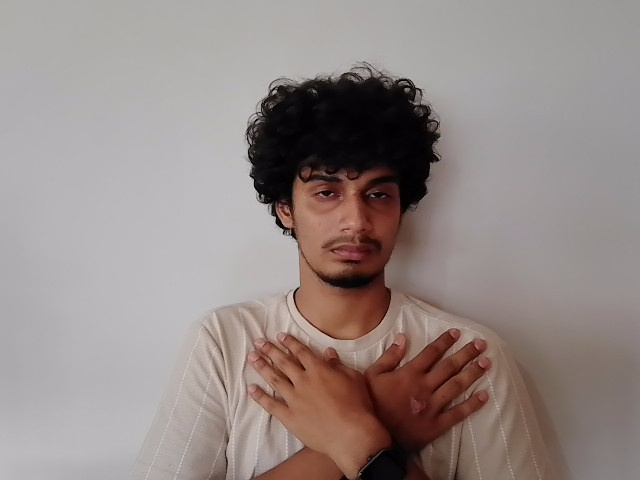relaxing: (249, 333, 497, 447)
